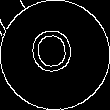O_S: (30, 26, 80, 84)
